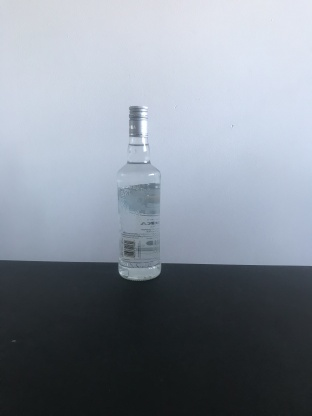nakretka: (127, 103, 149, 139)
